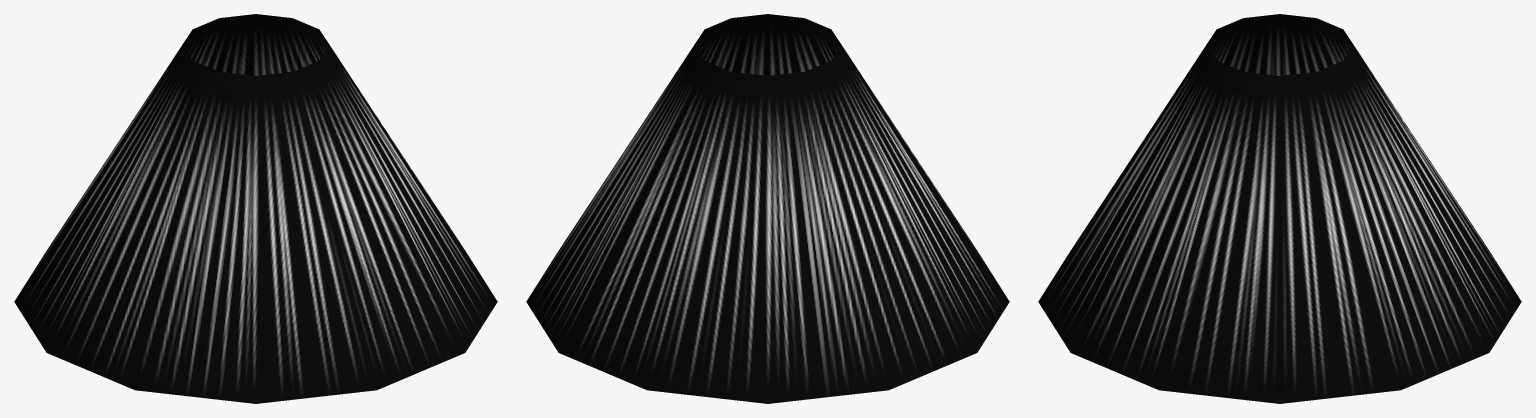
File: PunchSpeedParticle.fbx
3 views of the same model, side by side, from view 1: azimuth 30°, elevation 25°; view 2: azimuth 150°, elevation 25°; view 3: azimuth 270°, elevation 25° (orthographic).
Visible parts, largest first — view 1: Cone; view 2: Cone; view 3: Cone.
Boxes of the visible parts, <box> form: Cone: <box>14,14,497,403</box>; Cone: <box>526,14,1009,403</box>; Cone: <box>1038,14,1521,403</box>.
Bounding box in the file's own units: 244 × 143 × 244.
1 material, 1 textured.
